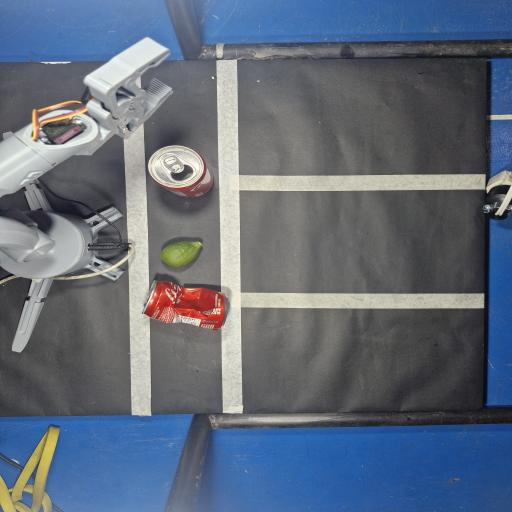higo: (161, 241, 202, 267)
lata: (148, 146, 214, 198)
lata_defectuoso: (142, 280, 228, 330)
